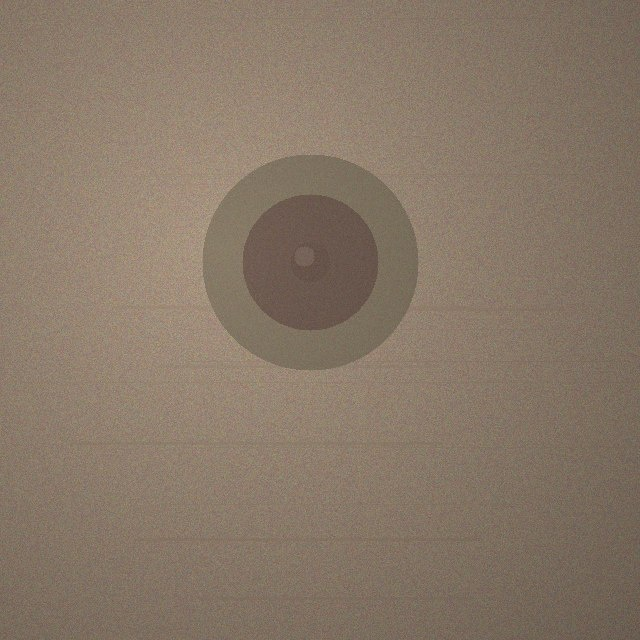good: (202, 154, 418, 370)
